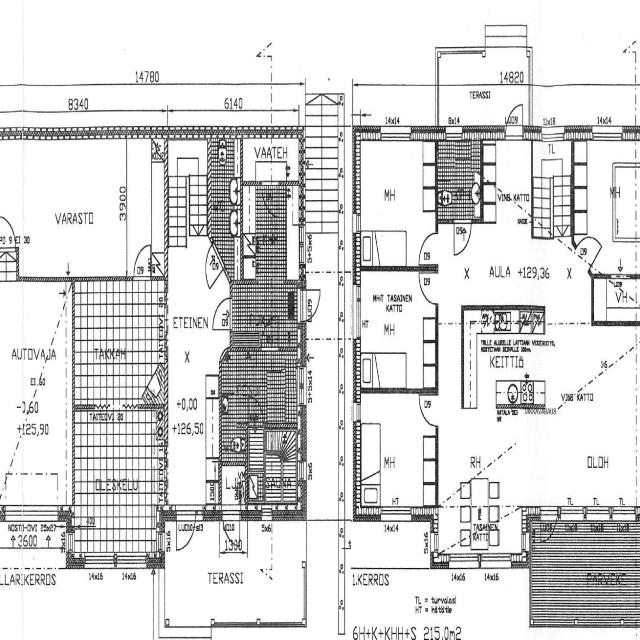door: (198, 241, 226, 291), (576, 225, 602, 271), (177, 505, 195, 555), (297, 289, 324, 321), (506, 94, 523, 141), (223, 505, 240, 551), (541, 506, 558, 551), (418, 394, 438, 426), (419, 273, 439, 304), (419, 233, 439, 264), (262, 181, 279, 217), (454, 219, 471, 255), (261, 316, 278, 351), (134, 246, 150, 282), (214, 298, 232, 329), (0, 216, 15, 251), (250, 397, 263, 431)
